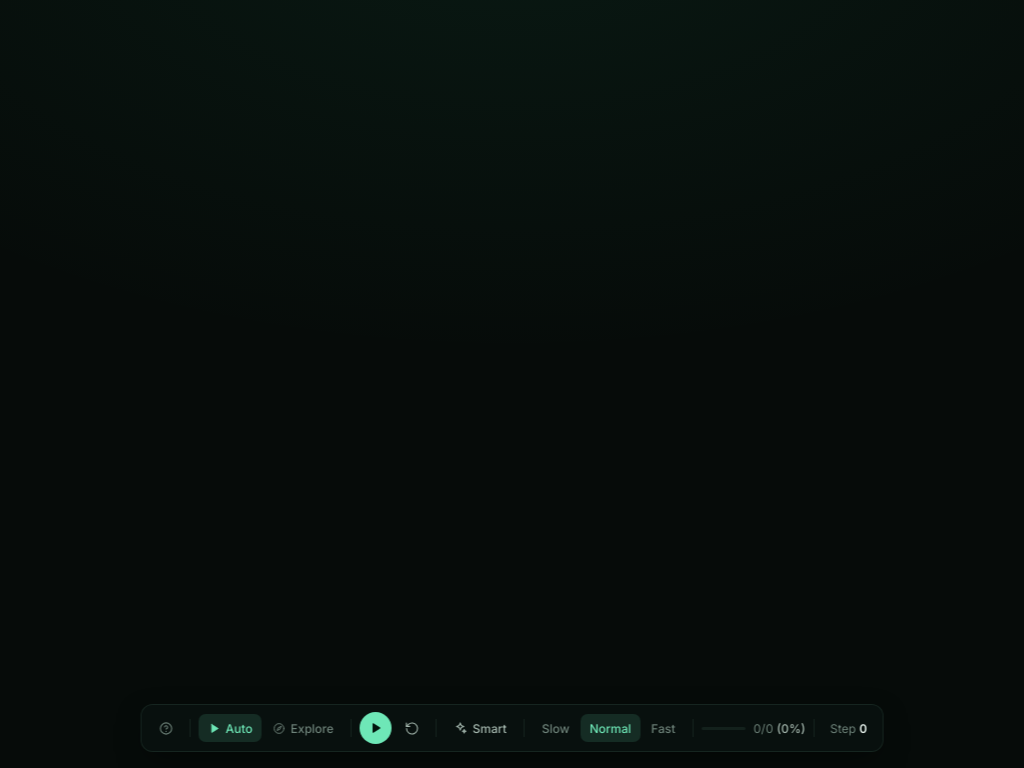
Test case: SimulationControls › toggles guide on repeated clicks
What coordinates should you click on to do the following:
click the button named "Show guide"
I would click on:
 (166, 728)
Its box is top-left (150, 712), bottom-right (182, 744).
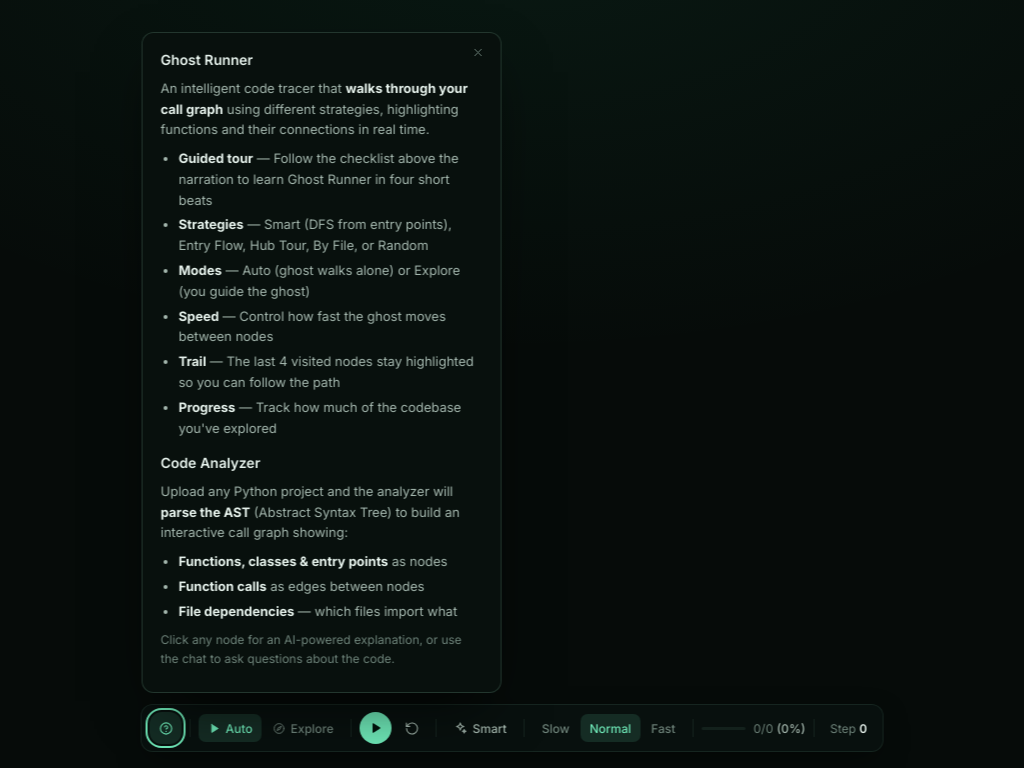
Now the heading "Ghost Runner" is shown, box top-left (160, 51), bottom-right (253, 68)
What coordinates should you click on to do the following:
click the button named "Show guide"
I would click on:
 (166, 728)
Its box is top-left (150, 712), bottom-right (182, 744).
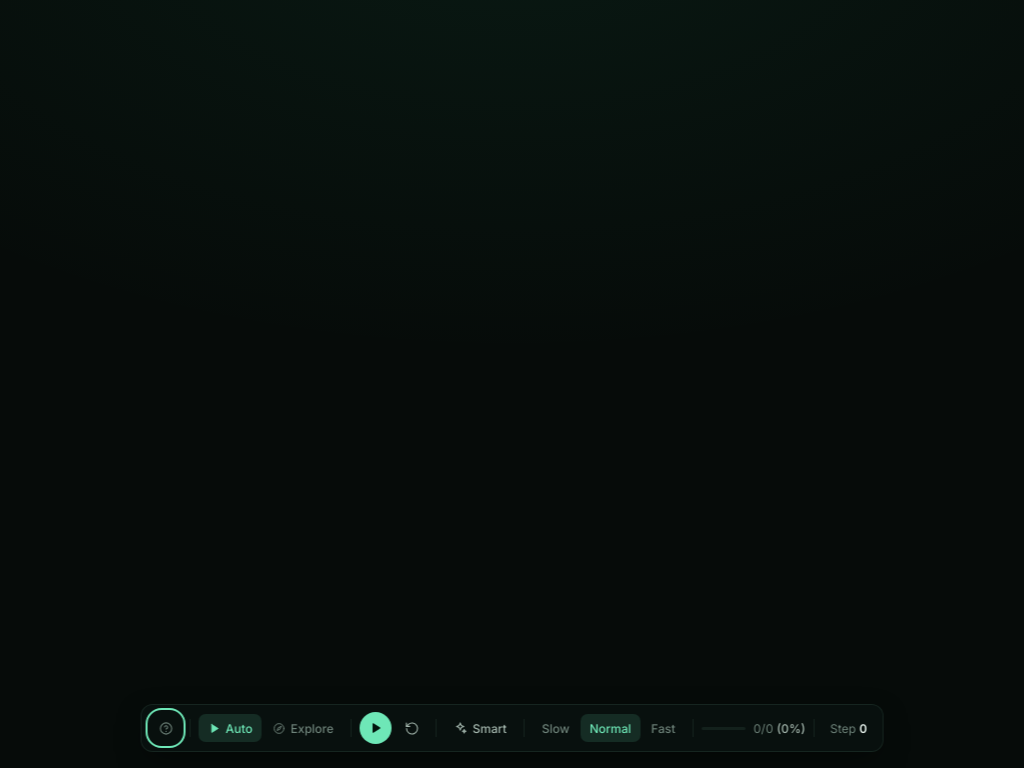
Now the heading "Ghost Runner" is gone
